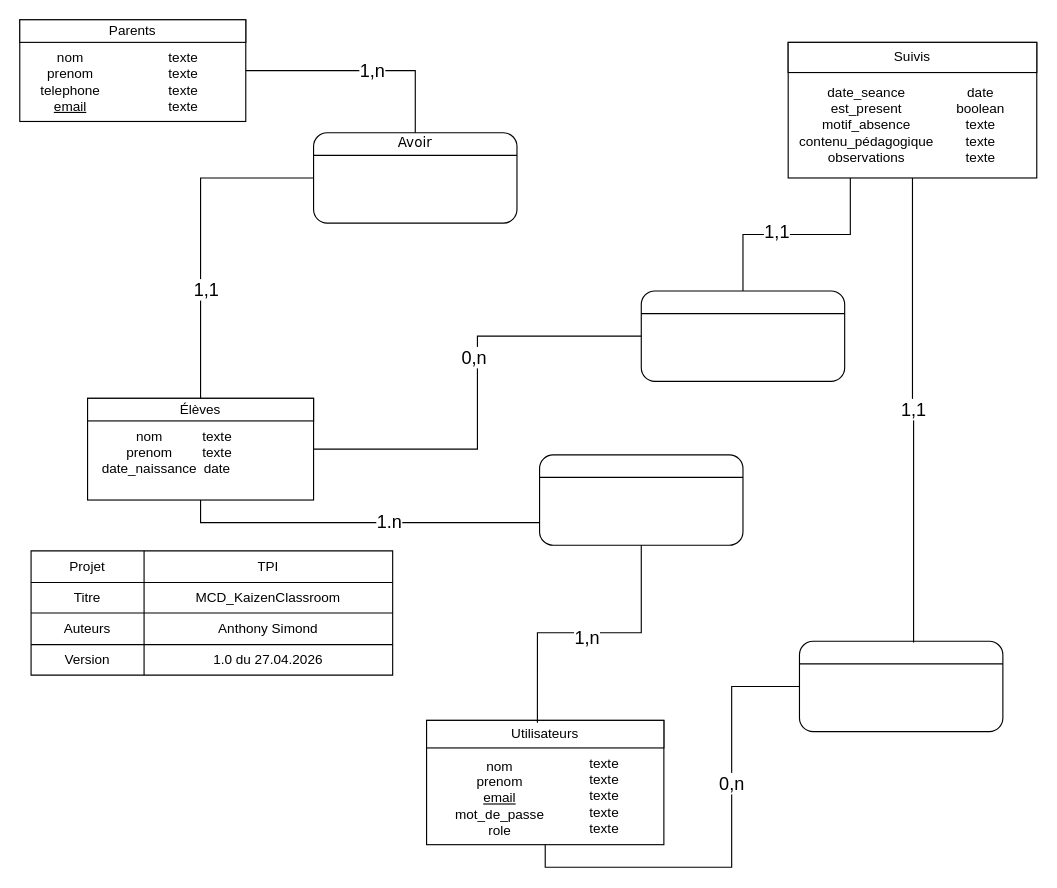
This 1057x888 diagram has some shape labels left out. Each missing label, with the centre of its shape:
Affecter: point 640,499
Concerner: point 742,335
Effectuer: point 900,686
